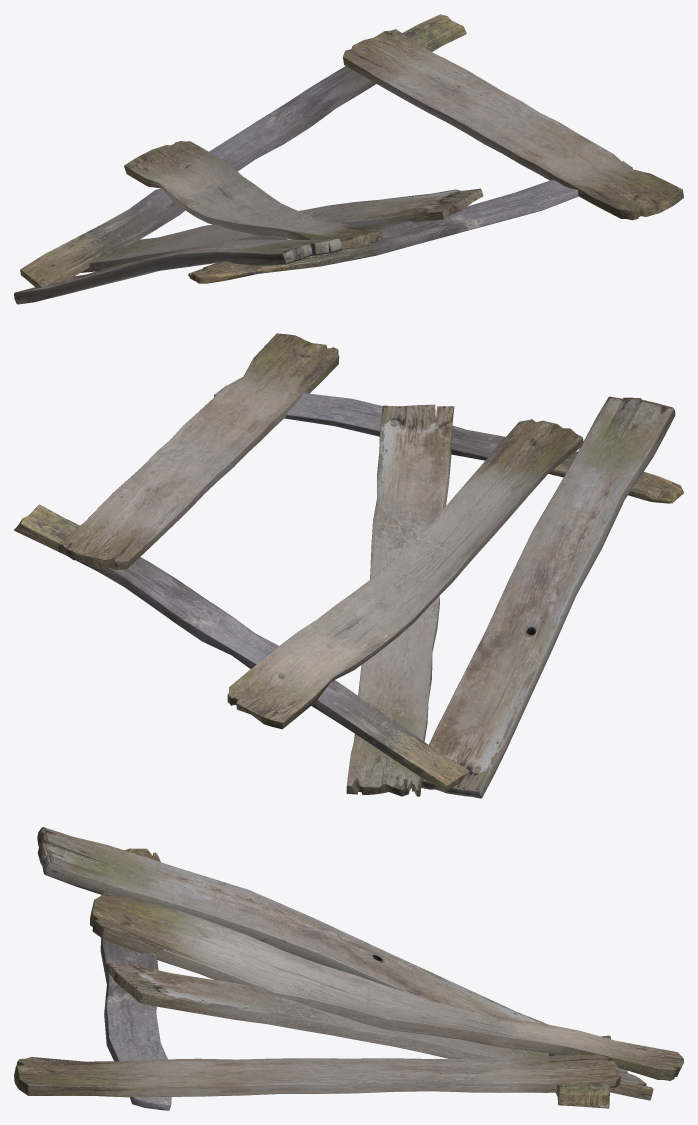
Rendered from SM_WoodPlank_01_14_bridge.fbx.
3 renders of one model, top to bottom at view 1: azimuth 30°, elevation 25°; view 2: azimuth 150°, elevation 25°; view 3: azimuth 270°, elevation 25°, orthographic. The views are drawn at different scales.
Visible parts, largest first — view 1: sm_WoodPlank_01_14_bridge_LOD0; view 2: sm_WoodPlank_01_14_bridge_LOD0; view 3: sm_WoodPlank_01_14_bridge_LOD0.
Boxes of the visible parts, left/top/right/bottom form: sm_WoodPlank_01_14_bridge_LOD0: left=14, top=14, right=683, bottom=304; sm_WoodPlank_01_14_bridge_LOD0: left=14, top=333, right=683, bottom=798; sm_WoodPlank_01_14_bridge_LOD0: left=14, top=827, right=683, bottom=1110.
Bounding box in the file's own units: 165 × 151 × 67.32.
